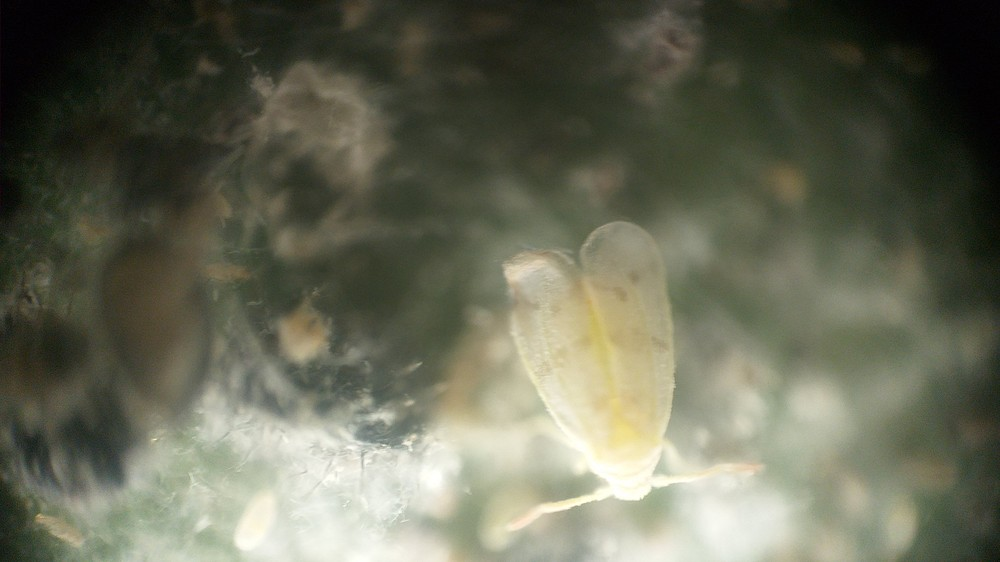Mosca Blanca: (453, 207, 797, 552)
